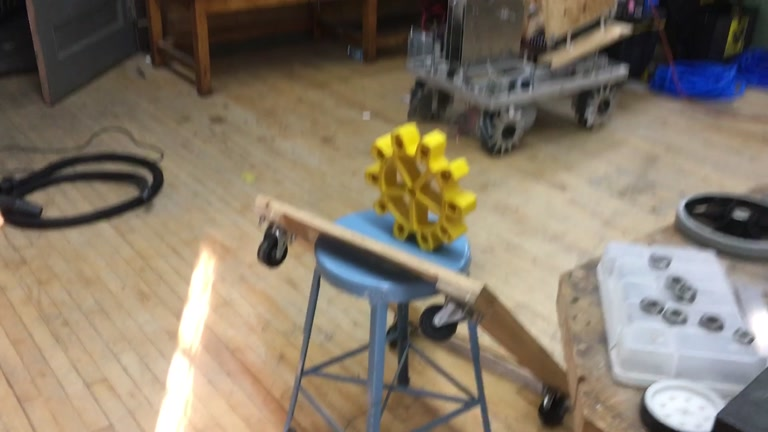gear: (365, 123, 479, 251)
